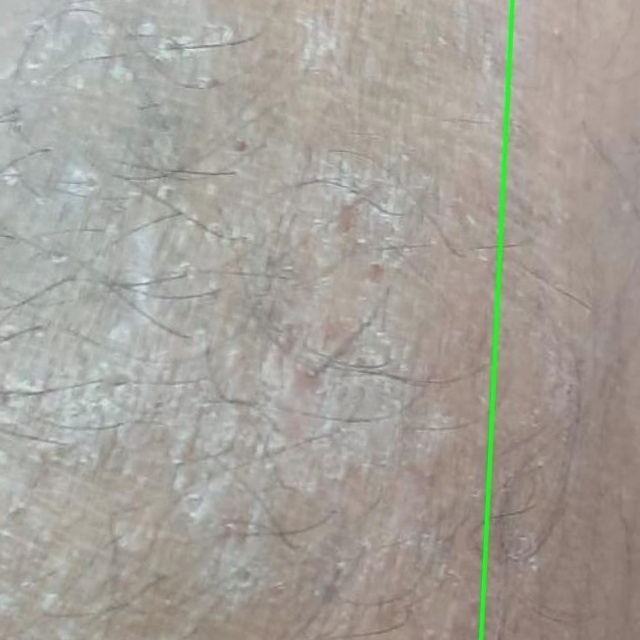Contact Dermatitis: (481, 0, 639, 639)
